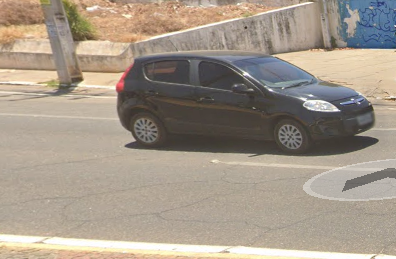car: (116, 37, 377, 167)
